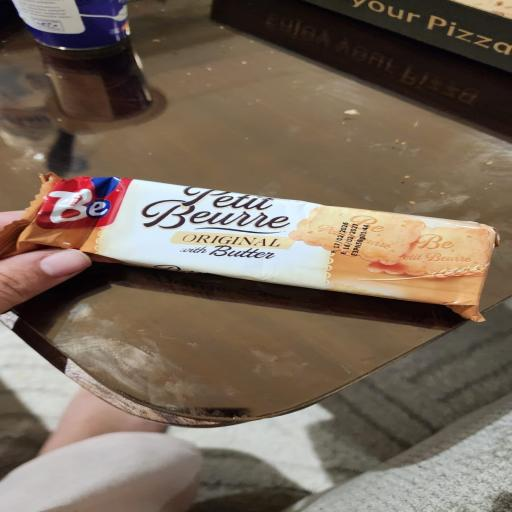petit-beurre: (11, 144, 512, 390)
